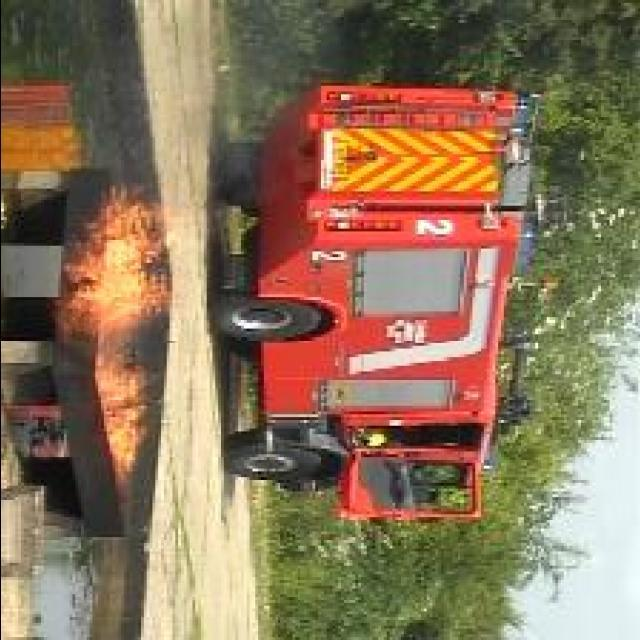Fire: (52, 188, 188, 482)
